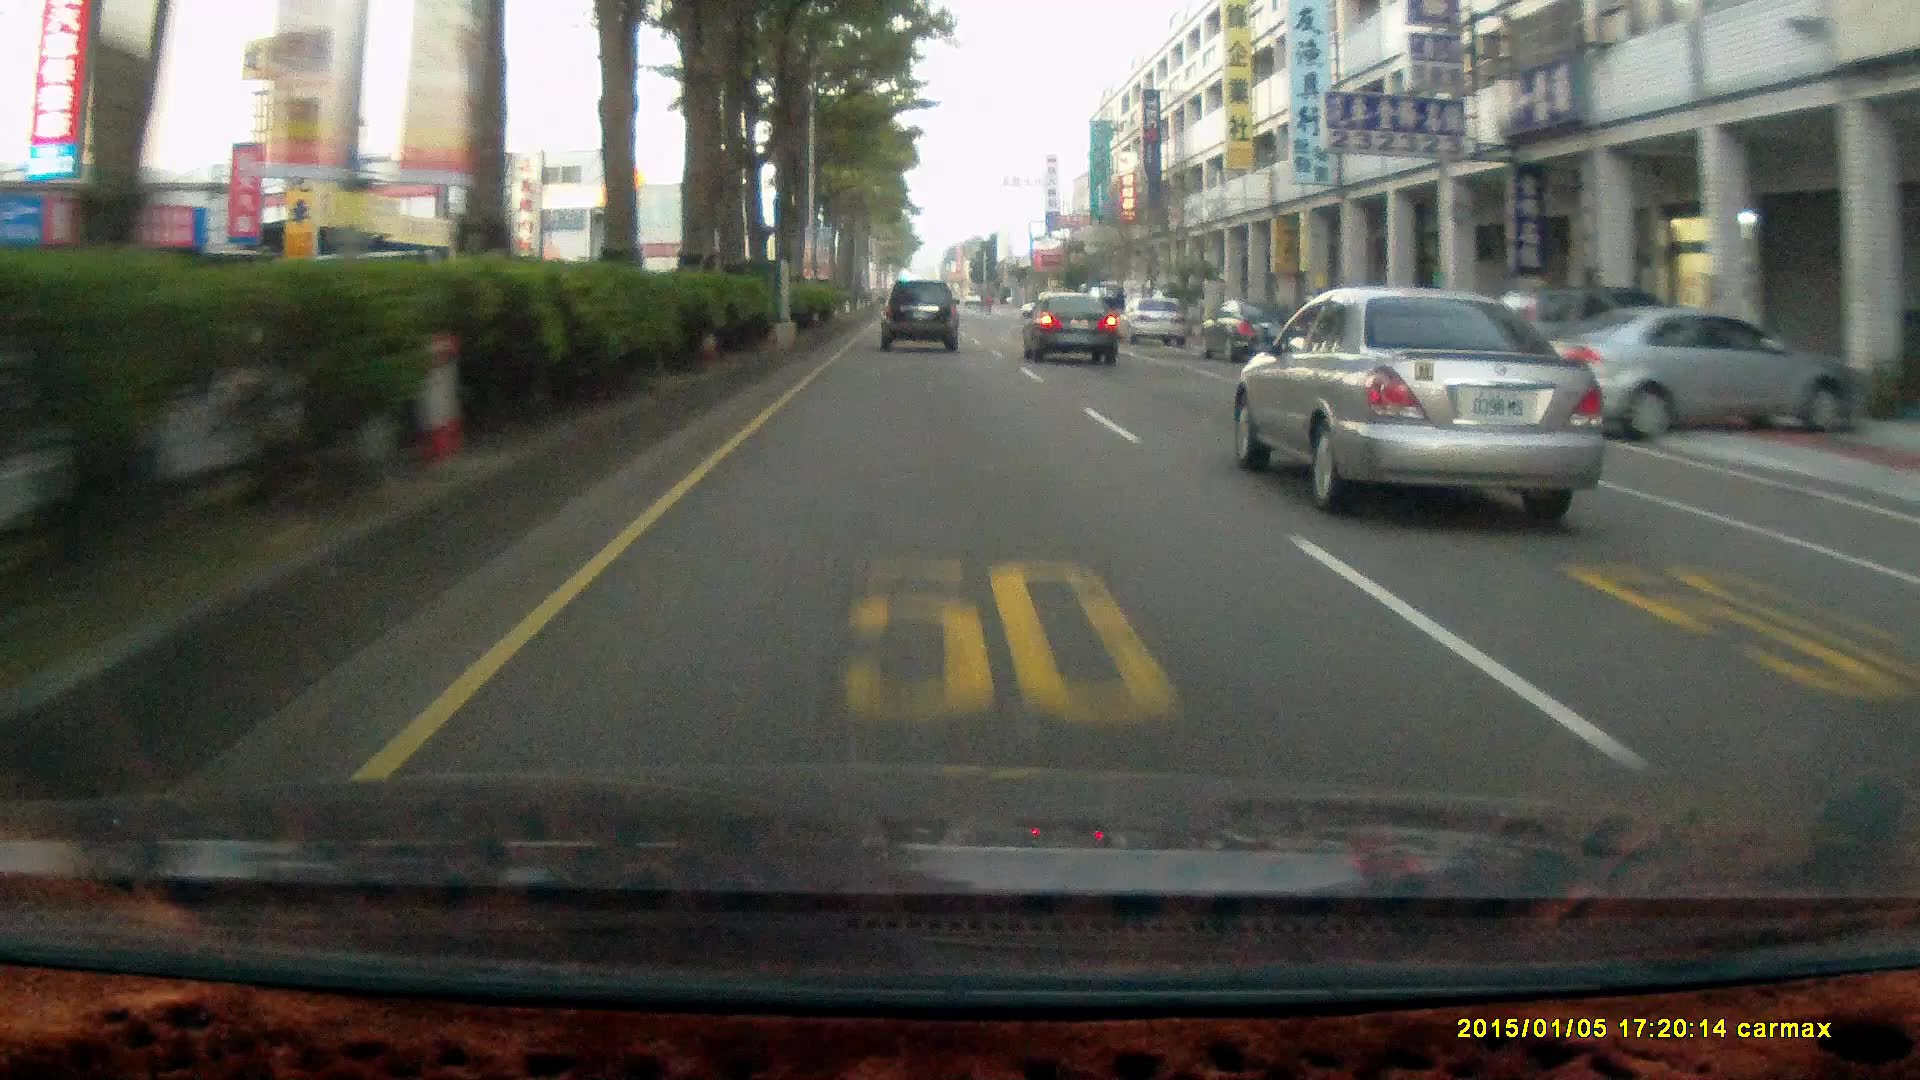vehicle: (1226, 286, 1619, 521), (1513, 306, 1879, 442), (1520, 305, 1855, 438), (1484, 284, 1704, 404), (1197, 295, 1311, 363), (1021, 291, 1117, 367), (1025, 295, 1124, 367), (880, 280, 961, 356), (877, 278, 960, 349), (1113, 295, 1187, 347), (1124, 298, 1191, 347)
